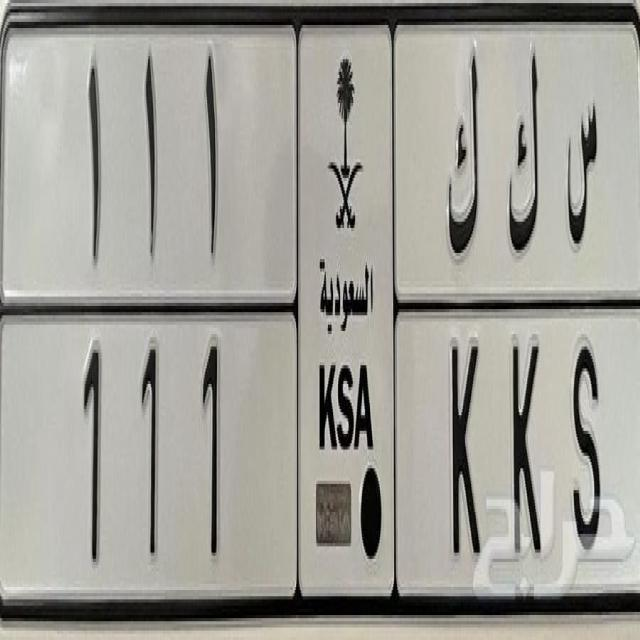license_plate: (67, 324, 610, 569)
